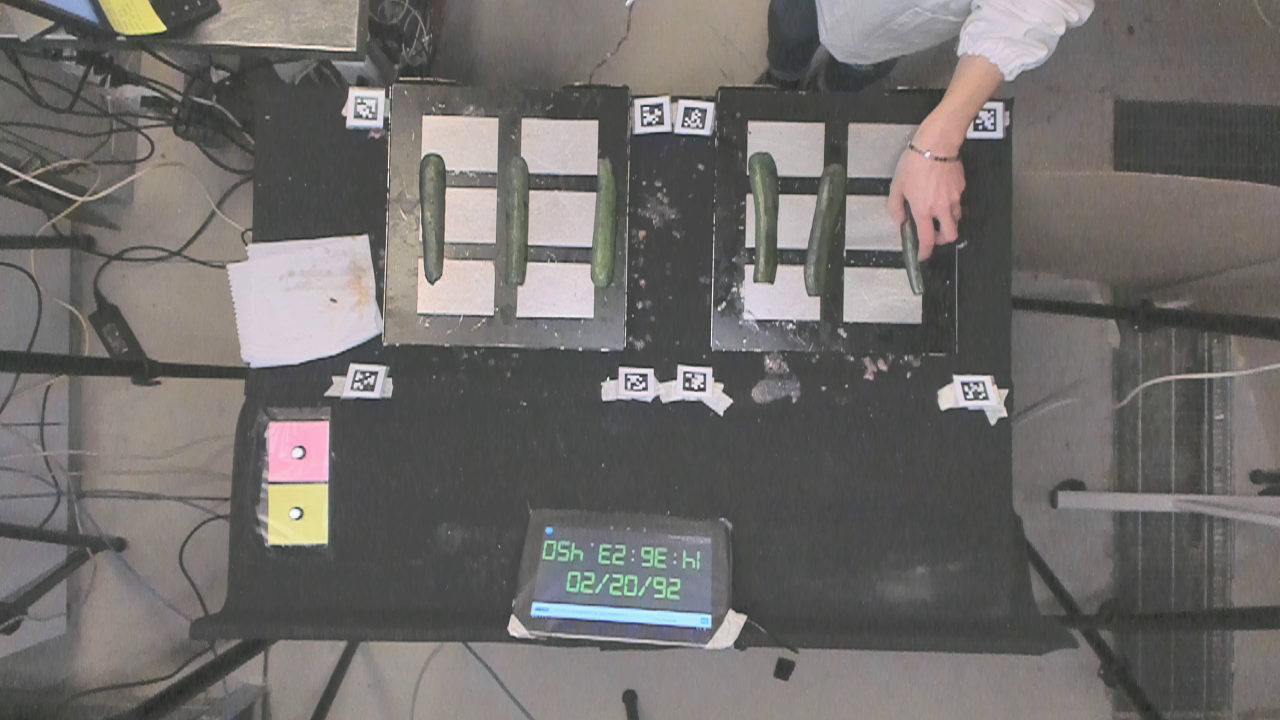marker: (267, 419, 330, 481)
zucchini: (803, 161, 847, 302), (741, 150, 783, 292), (497, 154, 529, 293), (417, 153, 450, 287), (594, 151, 620, 293), (894, 193, 927, 295)
